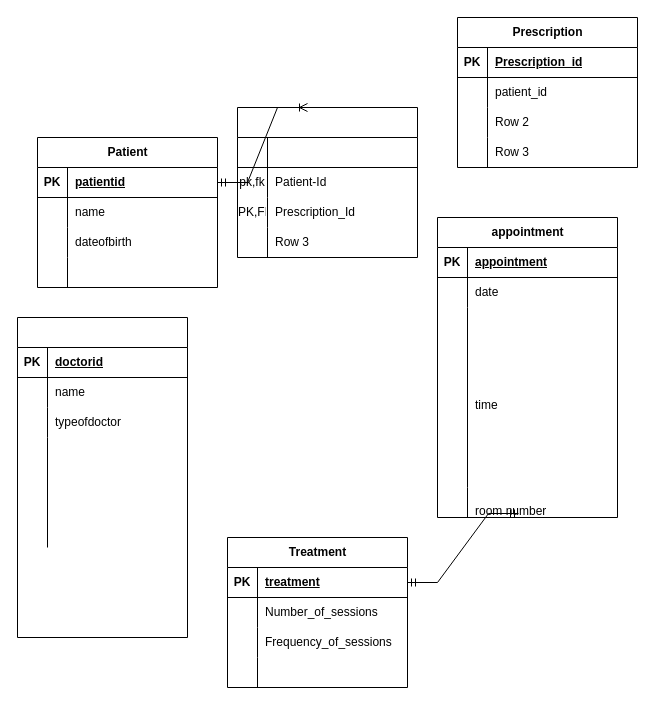
The diagram is 655 pixels wide and 705 high, and some of its shapes have lost their labels. The shapes that lost their labels are listed below. From the top down, each one's box as (x1, y1, x2, y2) in pixels, then its label:
(236, 106, 418, 258): patient prescription
(16, 316, 188, 638): docter
